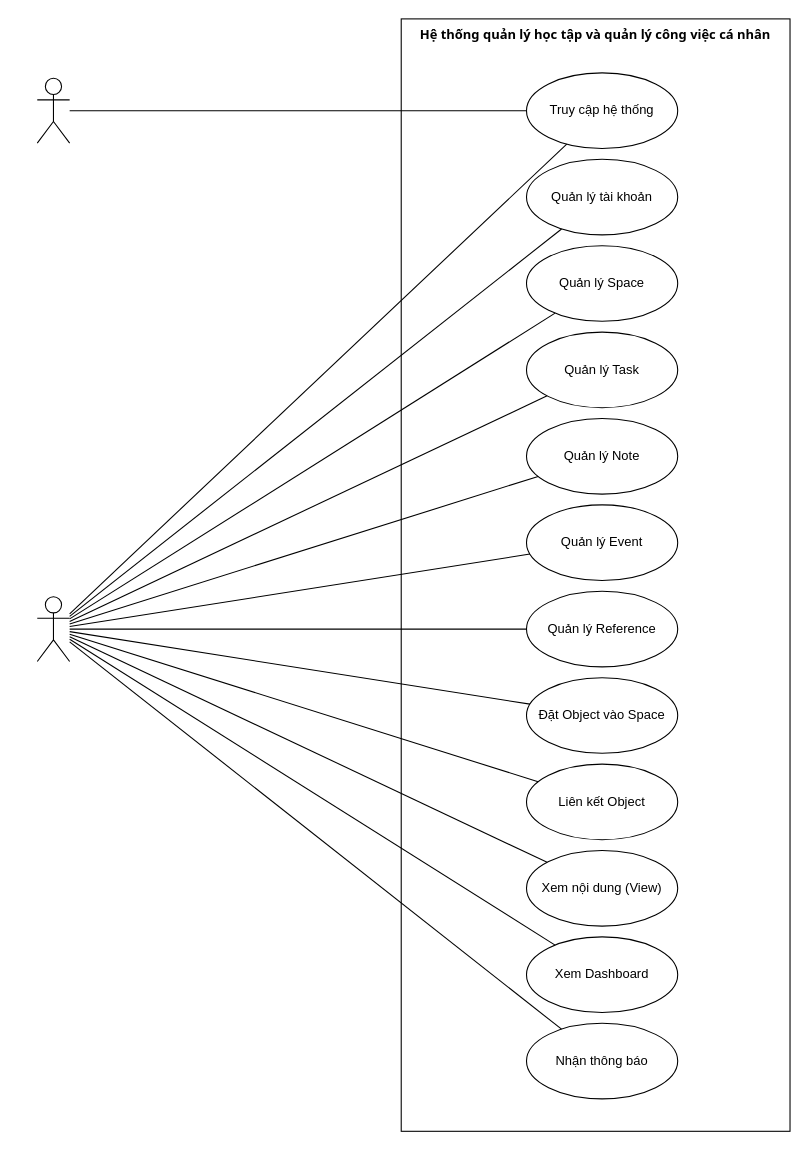
The diagram is 809 pixels wide and 1150 high, and some of its shapes have lost their labels. Here are the shapes that lost their labels. From the top down, the box of each, then its label:
(36, 77, 70, 143): Khách
(36, 596, 70, 662): Người dùng
